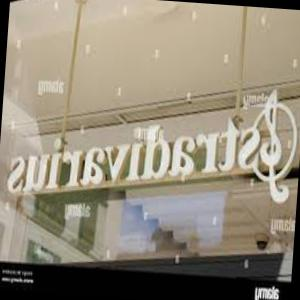stradivarius: (0, 87, 300, 207)
